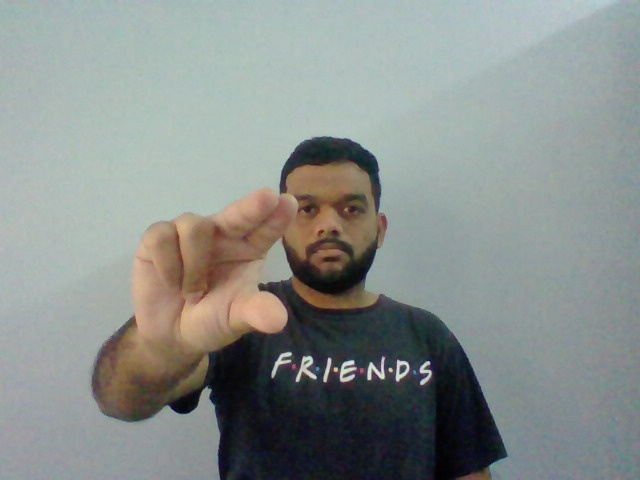No: (129, 188, 296, 341)
